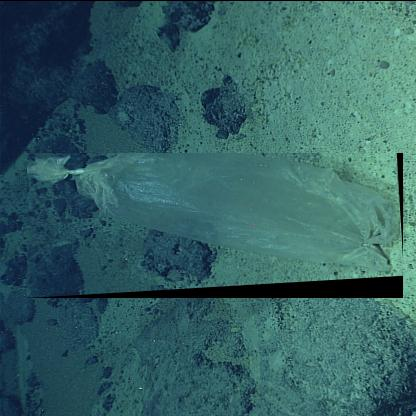plastic-bag: (27, 151, 404, 297)
